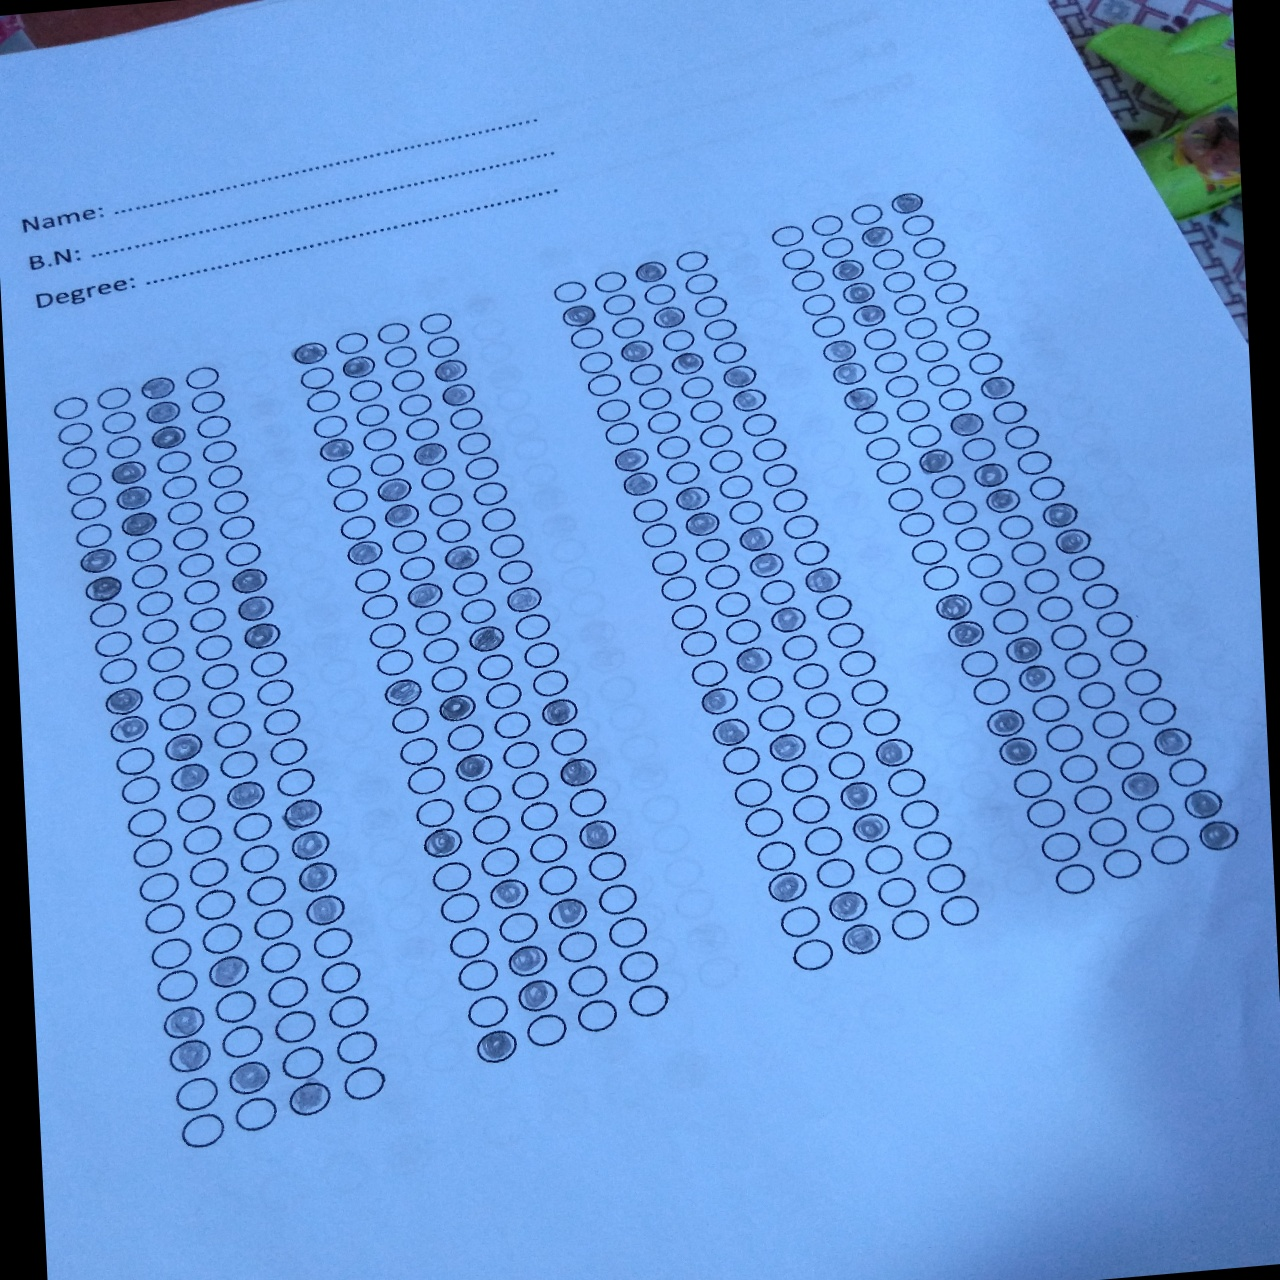not-c: (257, 938, 304, 978), (325, 993, 372, 1032), (573, 996, 620, 1035), (523, 1012, 570, 1050), (790, 935, 837, 974), (887, 907, 934, 946), (232, 1095, 278, 1133), (340, 1064, 386, 1103), (279, 1044, 325, 1083), (272, 1007, 318, 1046), (319, 958, 365, 996), (264, 973, 309, 1012), (212, 987, 258, 1026), (309, 924, 355, 962), (615, 946, 661, 985), (625, 982, 670, 1021), (777, 903, 823, 941), (219, 1023, 266, 1061), (922, 860, 969, 898), (173, 1075, 219, 1112), (181, 1111, 226, 1149), (334, 1028, 380, 1065), (937, 892, 982, 930), (230, 809, 274, 846), (244, 872, 290, 908), (564, 962, 610, 999), (252, 905, 295, 942), (910, 828, 955, 863), (789, 792, 835, 828), (188, 855, 231, 891), (181, 823, 224, 859), (273, 763, 316, 799), (1056, 750, 1099, 787), (1132, 799, 1176, 836), (149, 935, 193, 971), (155, 968, 199, 1003), (173, 790, 218, 825), (862, 842, 906, 877), (898, 796, 942, 831), (776, 761, 821, 796), (741, 805, 787, 839), (200, 920, 243, 956), (496, 908, 538, 945), (537, 862, 579, 898), (586, 849, 628, 885), (457, 956, 499, 993), (1071, 782, 1114, 818), (137, 869, 181, 904), (238, 842, 281, 877), (1039, 829, 1082, 864), (1054, 862, 1097, 897), (1099, 846, 1143, 881), (1148, 832, 1191, 867), (266, 734, 311, 768), (815, 856, 859, 890), (802, 824, 846, 858), (885, 765, 930, 799), (731, 775, 776, 809), (824, 748, 869, 782), (858, 704, 903, 738), (811, 717, 856, 751), (720, 743, 764, 777), (874, 874, 919, 908), (527, 830, 568, 866), (1024, 796, 1065, 832), (195, 887, 237, 922), (566, 785, 608, 821), (430, 860, 472, 896), (1010, 765, 1053, 801), (1166, 754, 1208, 789), (143, 901, 186, 935), (216, 747, 259, 781), (1085, 813, 1129, 847), (755, 839, 799, 872), (440, 890, 481, 925), (467, 994, 508, 1029), (469, 813, 511, 847), (518, 799, 560, 833), (448, 925, 490, 959), (595, 883, 638, 917), (607, 915, 649, 949), (557, 930, 599, 964), (125, 805, 169, 838), (547, 726, 588, 760), (479, 845, 520, 879), (131, 837, 173, 870), (520, 638, 563, 670), (475, 651, 517, 683), (529, 667, 571, 700), (1136, 695, 1179, 727), (261, 706, 302, 738), (212, 719, 253, 751), (120, 774, 161, 806), (429, 663, 470, 696), (689, 658, 730, 690), (723, 617, 764, 649), (145, 644, 188, 675), (156, 700, 198, 731), (491, 709, 533, 741), (668, 601, 710, 633), (1089, 708, 1131, 740), (1104, 738, 1146, 770), (745, 672, 785, 704), (1108, 636, 1148, 669), (1030, 692, 1070, 724), (199, 660, 240, 692), (206, 689, 247, 721), (254, 678, 295, 709), (115, 745, 156, 777), (418, 635, 459, 667), (511, 612, 552, 644), (390, 704, 431, 736), (399, 735, 440, 767), (444, 722, 485, 754), (482, 680, 523, 712), (501, 738, 542, 770), (414, 798, 455, 830), (509, 770, 550, 802), (801, 689, 842, 721), (847, 678, 888, 709), (837, 647, 878, 679), (779, 632, 821, 663), (813, 591, 855, 622), (150, 673, 192, 703), (1043, 722, 1085, 753), (1076, 679, 1115, 712), (756, 702, 796, 734), (791, 661, 831, 693), (825, 619, 865, 651), (679, 628, 719, 660), (921, 561, 961, 593), (978, 578, 1017, 610), (1062, 651, 1102, 682), (98, 655, 139, 686), (192, 632, 233, 662), (374, 647, 415, 678), (406, 765, 447, 796), (462, 783, 503, 813), (712, 588, 753, 619), (648, 549, 689, 579), (781, 512, 822, 543), (629, 495, 670, 525), (964, 551, 1005, 581), (1080, 581, 1121, 612), (971, 676, 1012, 707), (1048, 622, 1089, 653), (91, 629, 134, 659), (1124, 666, 1163, 697), (757, 577, 797, 607), (791, 538, 831, 568), (703, 561, 743, 592), (658, 573, 697, 604), (693, 535, 733, 565), (770, 485, 810, 516), (727, 497, 767, 527), (760, 459, 799, 490), (1022, 566, 1062, 597), (990, 606, 1030, 636), (959, 649, 999, 680), (1094, 608, 1133, 639), (181, 578, 222, 607), (188, 605, 229, 634), (248, 651, 290, 680), (388, 527, 429, 557), (485, 532, 526, 561), (493, 557, 535, 586), (360, 592, 401, 621), (896, 510, 937, 539), (1065, 553, 1107, 583), (399, 554, 440, 584), (707, 447, 745, 477), (696, 421, 735, 451), (73, 520, 113, 550), (124, 535, 164, 564), (130, 561, 170, 591), (88, 600, 128, 629), (135, 588, 175, 618), (434, 516, 474, 545), (478, 505, 518, 535), (449, 568, 489, 598), (457, 597, 497, 626), (367, 621, 407, 651), (639, 520, 679, 550), (740, 410, 779, 440), (908, 537, 948, 566), (952, 524, 992, 553), (139, 617, 181, 645), (1034, 594, 1075, 622), (663, 457, 702, 486), (655, 431, 694, 461), (1027, 474, 1065, 503), (940, 498, 979, 527), (994, 512, 1033, 542), (170, 524, 210, 552), (178, 551, 218, 579), (354, 567, 394, 595), (413, 610, 454, 636), (165, 498, 203, 527), (182, 363, 220, 392), (188, 388, 226, 416), (224, 540, 263, 568), (60, 444, 98, 472), (64, 470, 103, 498), (750, 436, 789, 464), (905, 422, 944, 450), (863, 434, 901, 462), (1002, 423, 1041, 451), (1008, 539, 1047, 567), (956, 436, 996, 463), (195, 413, 232, 441), (200, 437, 238, 465), (212, 488, 250, 516), (56, 420, 94, 448), (368, 451, 406, 479), (418, 465, 456, 493), (716, 472, 754, 501), (98, 409, 137, 436), (155, 449, 193, 476), (159, 474, 198, 501), (874, 459, 913, 486), (886, 486, 925, 513), (928, 474, 967, 501), (207, 462, 244, 490), (332, 486, 368, 515), (604, 418, 640, 447), (679, 373, 715, 401), (693, 293, 729, 321), (674, 247, 710, 275), (900, 210, 937, 238), (801, 290, 837, 318), (862, 324, 898, 352), (903, 314, 939, 342), (944, 302, 980, 331), (922, 257, 959, 285), (925, 361, 961, 389), (218, 515, 256, 542), (95, 384, 132, 411), (105, 434, 143, 461), (69, 493, 107, 520), (375, 319, 413, 346), (360, 425, 397, 452), (455, 429, 492, 456), (463, 454, 501, 481), (427, 491, 464, 518), (932, 279, 969, 306), (1015, 449, 1053, 476), (333, 331, 372, 356), (595, 396, 631, 424), (568, 324, 604, 352), (610, 313, 645, 341), (880, 268, 915, 297), (311, 413, 347, 440), (403, 415, 440, 442), (325, 463, 361, 490), (471, 481, 508, 508), (339, 515, 375, 542), (689, 397, 726, 424), (645, 409, 681, 436), (636, 384, 673, 411), (659, 326, 695, 353), (769, 222, 805, 248), (849, 200, 885, 227), (810, 313, 846, 340), (892, 291, 928, 318), (911, 234, 947, 261), (871, 246, 907, 273), (913, 338, 949, 365), (968, 350, 1005, 377), (881, 372, 918, 399), (852, 408, 888, 435), (937, 386, 973, 413), (990, 399, 1027, 425), (52, 395, 89, 421), (298, 365, 335, 390), (304, 388, 341, 414), (447, 406, 484, 431), (397, 392, 433, 418), (712, 339, 747, 366), (628, 361, 663, 388), (587, 372, 622, 399), (579, 349, 614, 376), (703, 316, 738, 343), (644, 281, 679, 308), (810, 211, 845, 238), (873, 349, 908, 376), (955, 326, 990, 353), (894, 397, 930, 424), (424, 334, 461, 360), (347, 377, 383, 403), (390, 368, 427, 394), (354, 402, 390, 428), (592, 268, 628, 294), (415, 311, 452, 335), (685, 270, 719, 297), (383, 343, 418, 369), (600, 292, 636, 316), (551, 279, 587, 304), (821, 234, 855, 260), (782, 246, 816, 271), (790, 268, 824, 293)
taken-c: (287, 1080, 334, 1118), (486, 874, 533, 913), (576, 815, 622, 853), (849, 809, 896, 847), (475, 1027, 520, 1065), (543, 894, 588, 933), (840, 919, 886, 958), (205, 953, 252, 990), (872, 734, 919, 771), (767, 730, 813, 768), (1196, 817, 1242, 855), (162, 1003, 207, 1041), (226, 1058, 272, 1096), (516, 976, 561, 1014), (505, 941, 551, 979), (828, 888, 873, 926), (765, 869, 811, 906), (836, 778, 881, 816), (169, 1039, 215, 1075), (764, 869, 810, 905), (418, 826, 464, 862), (710, 715, 754, 751), (1002, 633, 1046, 669), (945, 617, 988, 653), (1150, 723, 1193, 760), (697, 685, 742, 720), (1180, 787, 1225, 822), (554, 755, 601, 788), (162, 730, 205, 765), (985, 704, 1028, 740), (538, 696, 583, 730), (435, 692, 479, 726), (767, 602, 811, 636), (996, 734, 1039, 769), (1119, 768, 1162, 803), (168, 761, 211, 795), (282, 795, 326, 829), (297, 860, 340, 894), (305, 893, 348, 927), (468, 622, 511, 656), (403, 580, 447, 614), (734, 644, 777, 678), (1015, 663, 1058, 697), (934, 590, 978, 624), (224, 779, 268, 812), (380, 676, 424, 709), (501, 584, 545, 617), (438, 542, 481, 576), (341, 537, 384, 570), (1040, 501, 1083, 533), (107, 713, 149, 745), (290, 829, 332, 862), (451, 753, 493, 785), (801, 565, 843, 598), (915, 445, 958, 478), (981, 485, 1024, 517), (945, 410, 988, 441), (237, 592, 278, 624), (105, 685, 147, 716), (971, 461, 1012, 492), (1051, 526, 1094, 557), (374, 475, 414, 506), (83, 574, 124, 605), (241, 620, 282, 651), (290, 338, 328, 369), (979, 373, 1017, 404), (229, 565, 268, 595), (410, 440, 450, 470), (737, 524, 777, 554), (747, 550, 787, 580), (79, 545, 120, 574), (381, 501, 420, 531), (440, 380, 478, 410), (316, 435, 355, 465), (843, 383, 881, 414), (831, 359, 870, 389), (819, 338, 858, 368), (148, 422, 188, 451), (114, 483, 154, 512), (118, 510, 158, 539), (430, 358, 470, 387), (109, 459, 150, 488), (839, 278, 877, 308), (887, 189, 925, 219), (340, 353, 379, 382), (850, 302, 888, 332), (829, 256, 867, 285), (859, 222, 896, 252), (621, 468, 658, 498), (675, 483, 712, 513), (138, 374, 179, 401), (143, 399, 184, 425), (633, 257, 670, 286), (649, 302, 687, 332), (618, 338, 655, 367), (720, 362, 757, 392), (685, 509, 722, 538), (670, 349, 707, 379), (730, 386, 767, 415), (613, 445, 651, 474), (561, 302, 598, 331)
